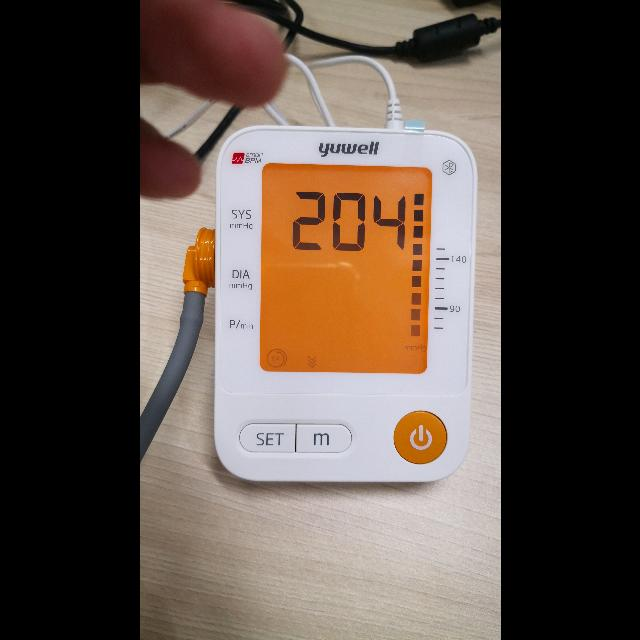Blood-Pressure-Monitor: (217, 124, 478, 482)
